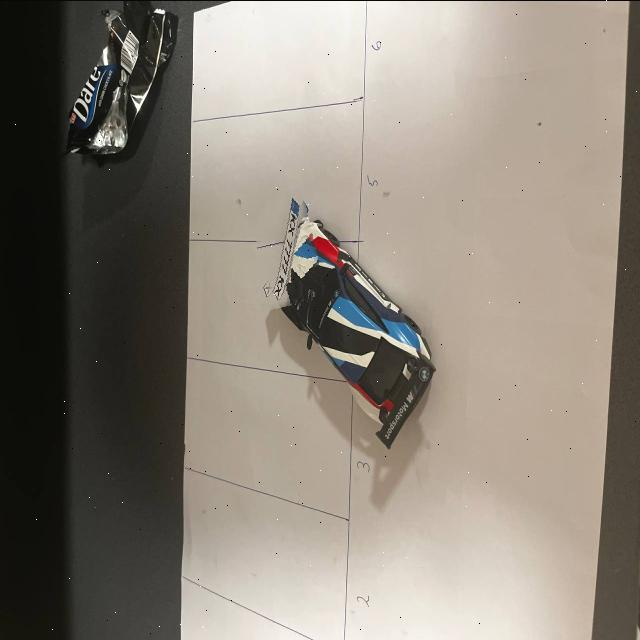KX 7777 KX: (268, 189, 305, 306)
